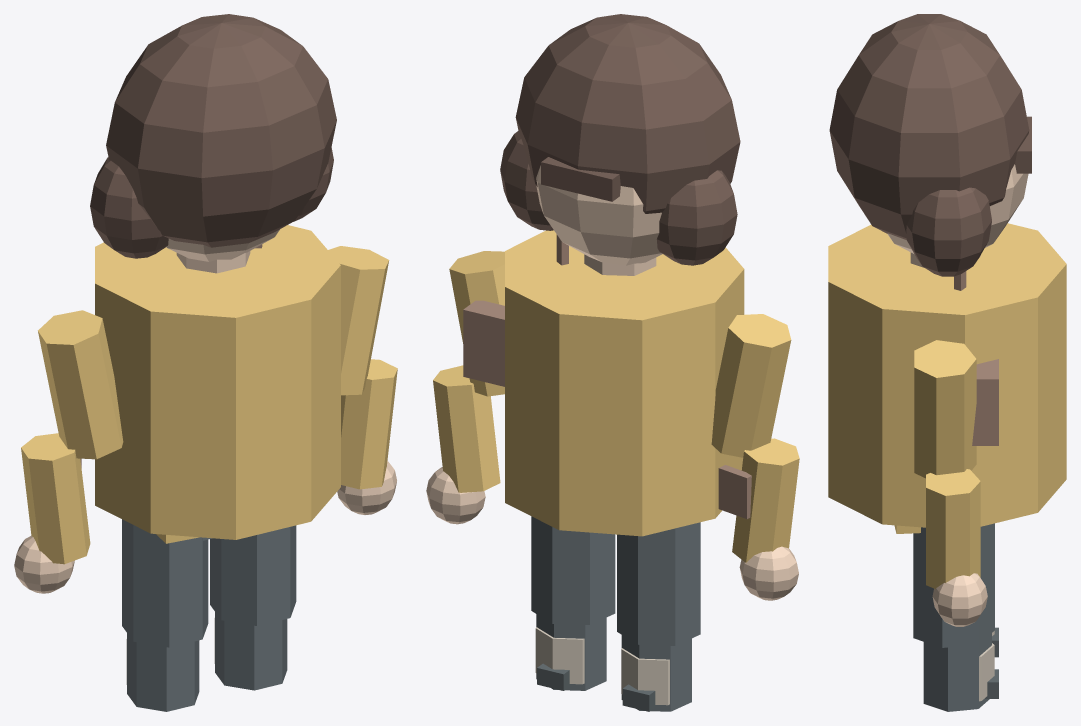
File: char-player.glb
3 renders of one model, left to right at view 1: azimuth 30°, elevation 25°; view 2: azimuth 150°, elevation 25°; view 3: azimuth 270°, elevation 25°, orthographic. The views are drawn at different scales.
Visible parts, largest first — view 1: CoatTorso, HairBack, LegThigh_-1, CoatUpperArm_-1, LegThigh_1, CoatLowerArm_-1, CoatLowerArm_1, CoatUpperArm_1, LegCalf_1, LegCalf_-1, HairSide_-1, Hand_-1 (+4 smaller); view 2: CoatTorso, HairBack, LegThigh_-1, CoatUpperArm_-1, LegThigh_1, Head, CoatLowerArm_1, CoatLowerArm_-1, HairSide_-1, BagBody, CoatUpperArm_1, HairSide_1 (+11 smaller); view 3: CoatTorso, HairBack, CoatUpperArm_1, HairSide_1, CoatLowerArm_1, LegThigh_1, LegCalf_1, Hand_1, BagBody, Head, Sock_1, HairFringe.
Part boxes in pixels (left/top/right/bottom): CoatTorso: left=95, top=225, right=340, bottom=539; HairBack: left=106, top=14, right=336, bottom=247; LegThigh_-1: left=122, top=519, right=208, bottom=647; CoatUpperArm_-1: left=38, top=310, right=123, bottom=459; LegThigh_1: left=210, top=525, right=296, bottom=625; CoatLowerArm_-1: left=21, top=433, right=90, bottom=564; CoatLowerArm_1: left=341, top=359, right=397, bottom=489; CoatUpperArm_1: left=328, top=246, right=389, bottom=395; LegCalf_1: left=215, top=612, right=287, bottom=690; LegCalf_-1: left=127, top=633, right=199, bottom=711; HairSide_-1: left=90, top=157, right=168, bottom=258; Hand_-1: left=14, top=536, right=74, bottom=593; CoatTorso: left=505, top=230, right=744, bottom=536; HairBack: left=515, top=14, right=740, bottom=213; LegThigh_-1: left=617, top=522, right=700, bottom=645; CoatUpperArm_-1: left=711, top=314, right=791, bottom=457; LegThigh_1: left=531, top=516, right=615, bottom=624; Head: left=536, top=165, right=662, bottom=265; CoatLowerArm_1: left=433, top=365, right=500, bottom=492; CoatLowerArm_-1: left=732, top=438, right=799, bottom=562; HairSide_-1: left=656, top=170, right=737, bottom=265; BagBody: left=463, top=300, right=504, bottom=386; CoatUpperArm_1: left=449, top=251, right=504, bottom=396; HairSide_1: left=500, top=131, right=553, bottom=230; CoatTorso: left=828, top=223, right=1066, bottom=527; HairBack: left=829, top=14, right=1029, bottom=240; CoatUpperArm_1: left=914, top=340, right=976, bottom=478; HairSide_1: left=906, top=187, right=991, bottom=276; CoatLowerArm_1: left=926, top=469, right=980, bottom=589; LegThigh_1: left=913, top=523, right=994, bottom=647; LegCalf_1: left=923, top=633, right=991, bottom=711; Hand_1: left=932, top=573, right=987, bottom=626; BagBody: left=972, top=359, right=998, bottom=445; Head: left=887, top=164, right=1028, bottom=253; Sock_1: left=979, top=643, right=994, bottom=701; HairFringe: left=1015, top=116, right=1031, bottom=173.
Bounding box in the file's own units: 1.02 × 1.76 × 0.5819.
